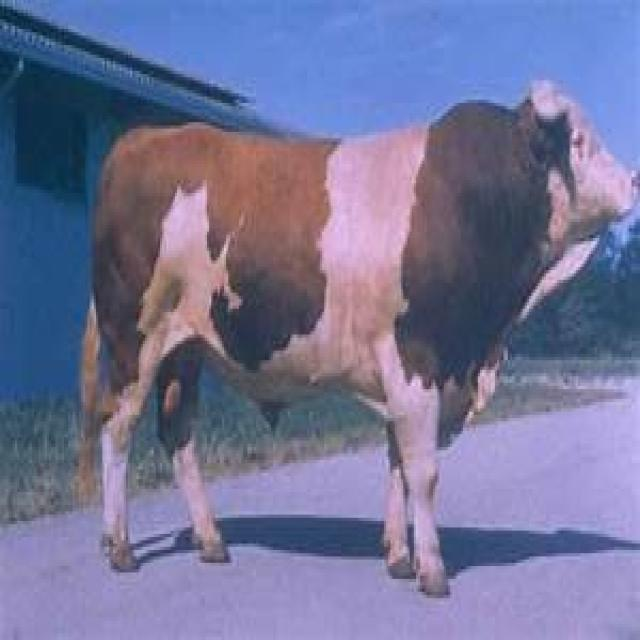cow: (35, 28, 638, 602)
